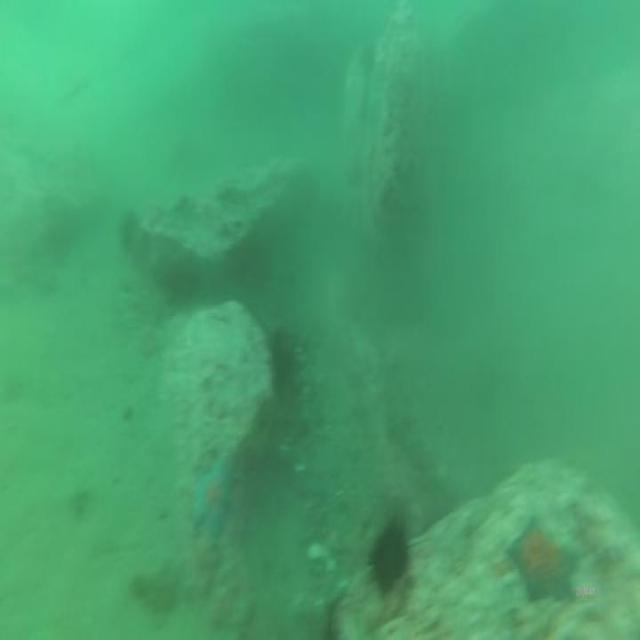echinus: (368, 509, 412, 605), (263, 318, 298, 397)
starfish: (508, 518, 588, 608), (190, 457, 235, 532)
